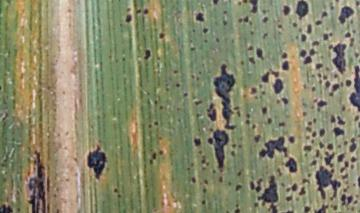tarspot: (211, 63, 241, 130), (25, 149, 50, 213), (84, 143, 109, 182), (315, 165, 341, 201), (257, 174, 280, 213), (207, 128, 228, 170), (257, 135, 288, 160), (327, 42, 348, 74), (348, 63, 358, 114), (336, 5, 355, 26), (294, 1, 311, 20), (205, 102, 218, 124), (284, 156, 298, 175), (272, 77, 285, 95), (322, 150, 336, 165), (193, 11, 206, 24), (332, 126, 345, 139), (314, 202, 329, 213), (254, 46, 265, 61), (348, 136, 357, 153), (1, 203, 15, 213), (280, 59, 290, 73), (249, 1, 259, 15), (254, 176, 262, 193), (260, 70, 270, 83), (281, 5, 291, 17), (143, 48, 152, 61), (148, 151, 157, 164), (192, 136, 202, 147), (247, 55, 257, 66), (331, 82, 341, 93), (305, 22, 313, 35), (339, 194, 347, 207), (270, 67, 280, 77), (302, 55, 312, 65), (336, 153, 346, 163), (252, 134, 263, 143), (125, 13, 134, 24), (336, 114, 345, 125), (296, 186, 307, 195), (321, 30, 329, 42), (318, 127, 326, 139), (236, 16, 249, 23), (287, 135, 296, 145), (233, 183, 242, 193), (314, 62, 324, 71), (193, 98, 203, 107), (326, 141, 335, 151), (317, 140, 326, 150), (260, 105, 268, 116), (346, 195, 354, 206), (210, 1, 224, 7), (316, 100, 328, 107), (353, 111, 360, 123), (260, 15, 269, 24), (280, 96, 289, 105), (157, 31, 165, 41), (320, 9, 328, 19), (299, 33, 307, 43), (308, 47, 316, 57), (302, 144, 312, 152), (284, 194, 294, 202), (300, 177, 310, 185), (313, 19, 324, 26), (329, 113, 336, 124), (201, 26, 209, 35), (280, 51, 288, 60), (235, 168, 243, 177), (349, 155, 358, 163), (304, 125, 313, 133), (217, 174, 224, 184), (299, 48, 306, 58), (345, 77, 352, 87), (348, 37, 355, 47), (199, 154, 206, 164), (356, 173, 360, 190), (302, 205, 310, 213), (291, 21, 299, 29), (310, 130, 318, 138), (261, 32, 269, 40), (323, 80, 331, 88), (188, 45, 196, 53), (266, 115, 273, 124), (249, 86, 256, 95), (246, 45, 255, 52), (311, 40, 320, 47), (251, 122, 258, 131), (343, 31, 352, 38), (202, 37, 211, 44), (310, 158, 317, 167), (340, 173, 349, 180), (171, 68, 180, 75), (291, 182, 297, 192), (349, 162, 355, 172), (142, 7, 149, 15), (125, 6, 133, 13), (190, 175, 197, 183), (200, 186, 208, 193), (278, 121, 286, 128), (353, 51, 360, 59), (229, 150, 237, 157), (311, 117, 318, 125), (300, 111, 308, 118), (249, 179, 254, 190), (135, 7, 141, 16), (111, 187, 120, 193), (245, 111, 251, 120), (214, 36, 220, 45), (231, 208, 241, 213), (174, 82, 181, 89), (221, 19, 228, 26), (306, 119, 313, 126), (341, 139, 348, 146), (253, 201, 259, 209), (182, 90, 188, 98), (152, 120, 160, 126), (310, 85, 316, 93), (340, 104, 346, 112), (336, 142, 341, 151), (315, 148, 319, 159), (158, 149, 164, 156), (202, 178, 209, 184), (243, 119, 250, 125), (332, 72, 338, 79), (230, 143, 236, 150), (316, 71, 322, 78), (276, 22, 282, 29), (248, 30, 255, 36), (285, 209, 294, 213), (200, 199, 206, 205), (328, 91, 334, 97), (115, 193, 122, 198), (222, 9, 229, 14), (153, 99, 158, 106), (329, 31, 334, 37), (322, 74, 328, 79), (317, 78, 322, 84), (158, 104, 163, 110), (147, 122, 151, 129), (1, 83, 4, 92), (55, 207, 59, 213), (241, 1, 247, 5), (238, 144, 243, 148), (358, 122, 360, 131), (334, 1, 339, 4)
